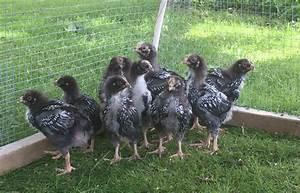hen: (180, 53, 256, 157), (15, 88, 93, 176), (144, 77, 192, 163), (97, 75, 141, 162)
